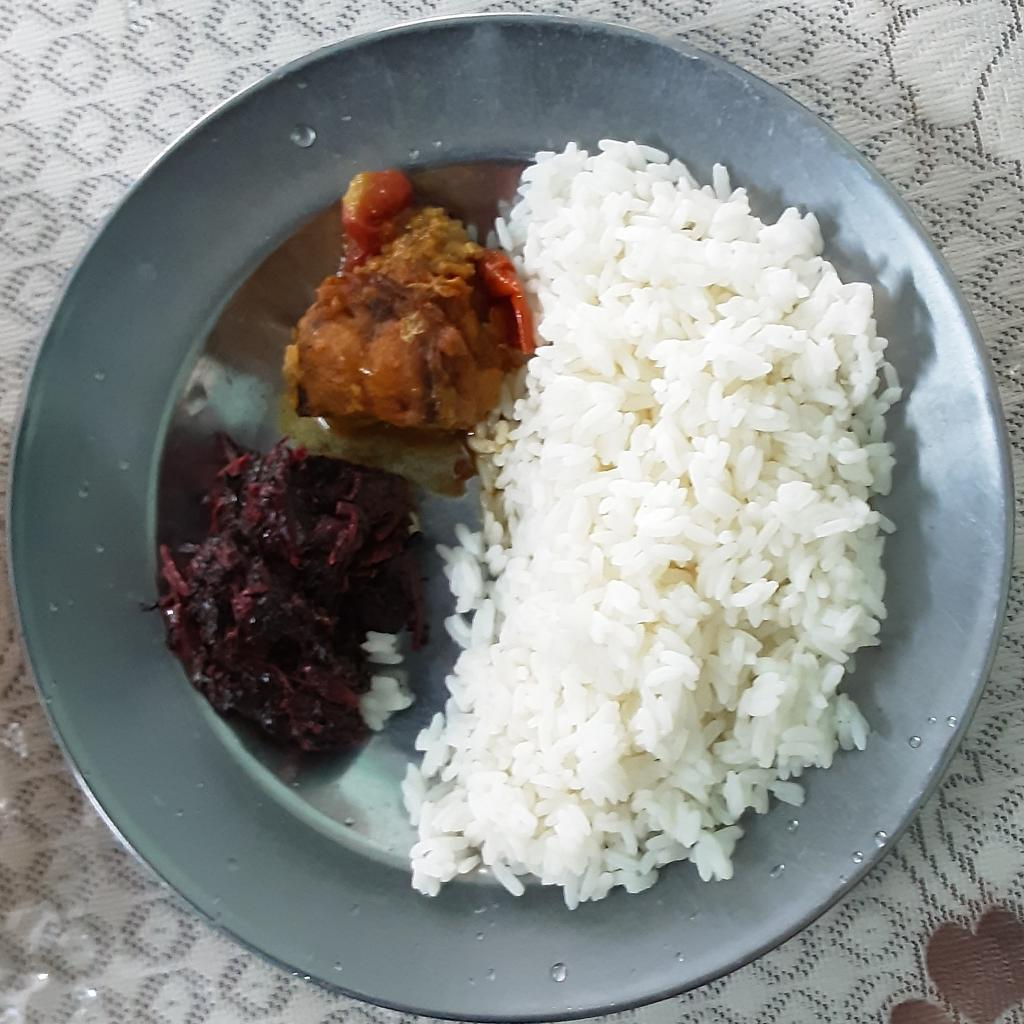fish: (293, 211, 519, 441)
lal-shak: (151, 438, 427, 752)
rice: (395, 136, 907, 909), (360, 626, 409, 733)
tomato: (341, 170, 420, 256), (476, 250, 532, 350)
